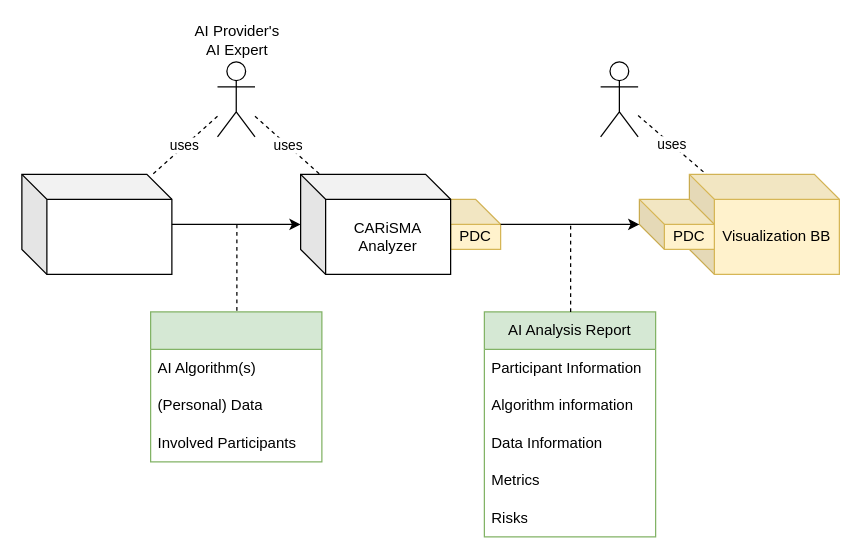
Some shapes in this 861 by 559 pixel diagram are drawn without their labels. The box of each missing label's shape, as (x1, y1, x2, y2) in pixels:
AI scenario model: (149, 311, 322, 462)
CARiSMA Modeler: (21, 173, 172, 274)
Data Subject: (599, 61, 638, 137)
